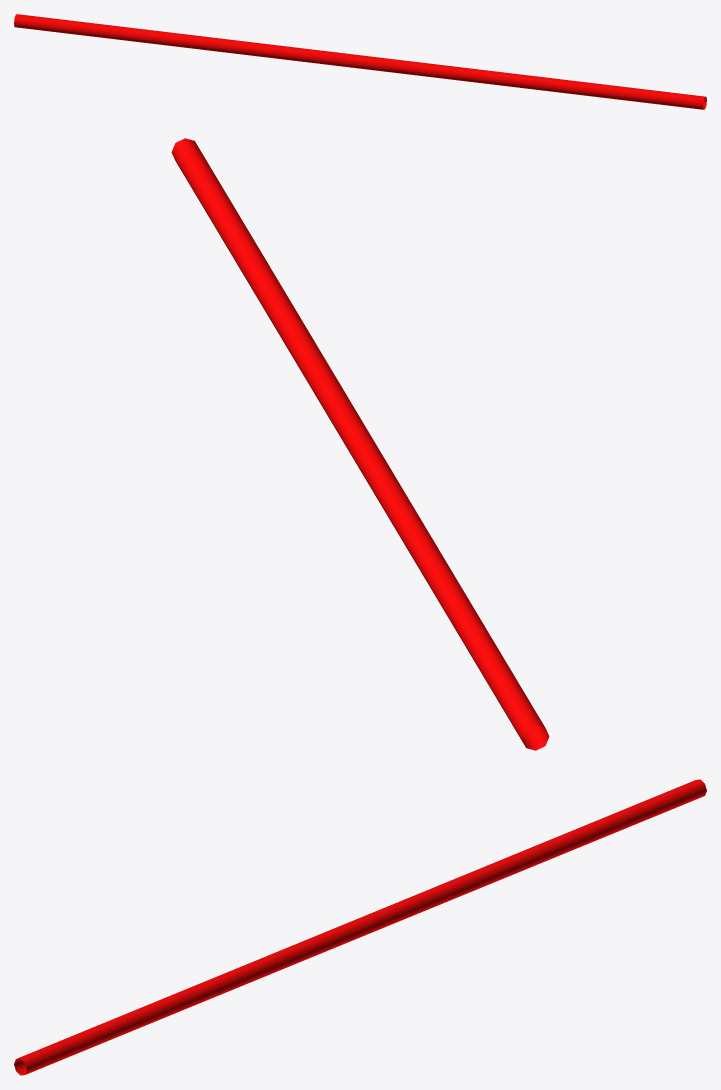
File: TestRopeMesh.fbx
3 views of the same model, one above another, from view 1: azimuth 30°, elevation 25°; view 2: azimuth 150°, elevation 25°; view 3: azimuth 270°, elevation 25° (orthographic). The views are drawn at different scales.
Parts seen in each view (by area): view 1: TestRopeMesh; view 2: TestRopeMesh; view 3: TestRopeMesh.
Part boxes in pixels (x1,y1,x2,y2): TestRopeMesh: [14, 14, 706, 109]; TestRopeMesh: [171, 138, 549, 750]; TestRopeMesh: [14, 779, 706, 1075].
Size of the model in its own units: 0.1734 by 0.0048 by 0.1783.
